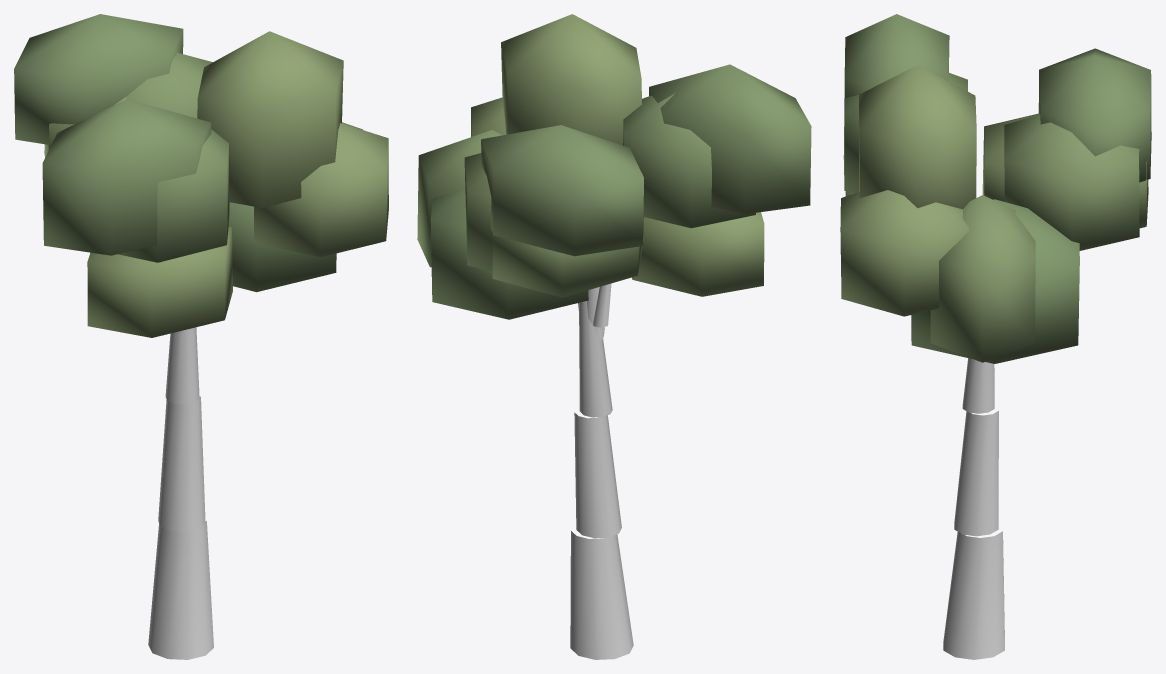
The model's file is oak_v0_mid.gltf.
The picture shows the model from 3 angles, left to right: view 1: azimuth 30°, elevation 25°; view 2: azimuth 150°, elevation 25°; view 3: azimuth 270°, elevation 25°; orthographic projection. The views are drawn at different scales.
Parts seen in each view (by area): view 1: foliage, bark; view 2: foliage, bark; view 3: foliage, bark.
Part boxes in pixels (x1=…): foliage: x1=14, y1=14, x2=388, y2=337; bark: x1=148, y1=327, x2=213, y2=659; foliage: x1=417, y1=14, x2=811, y2=319; bark: x1=570, y1=283, x2=633, y2=659; foliage: x1=840, y1=14, x2=1151, y2=363; bark: x1=943, y1=358, x2=1004, y2=659.
Bounding box in the file's own units: 3.32 × 5.39 × 2.49.
